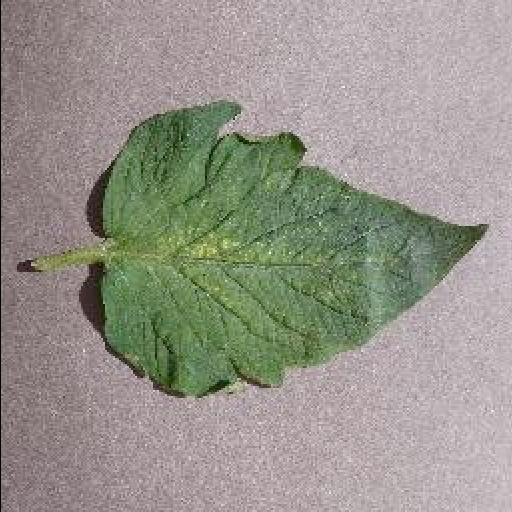disease_tomato: (98, 102, 488, 398)
